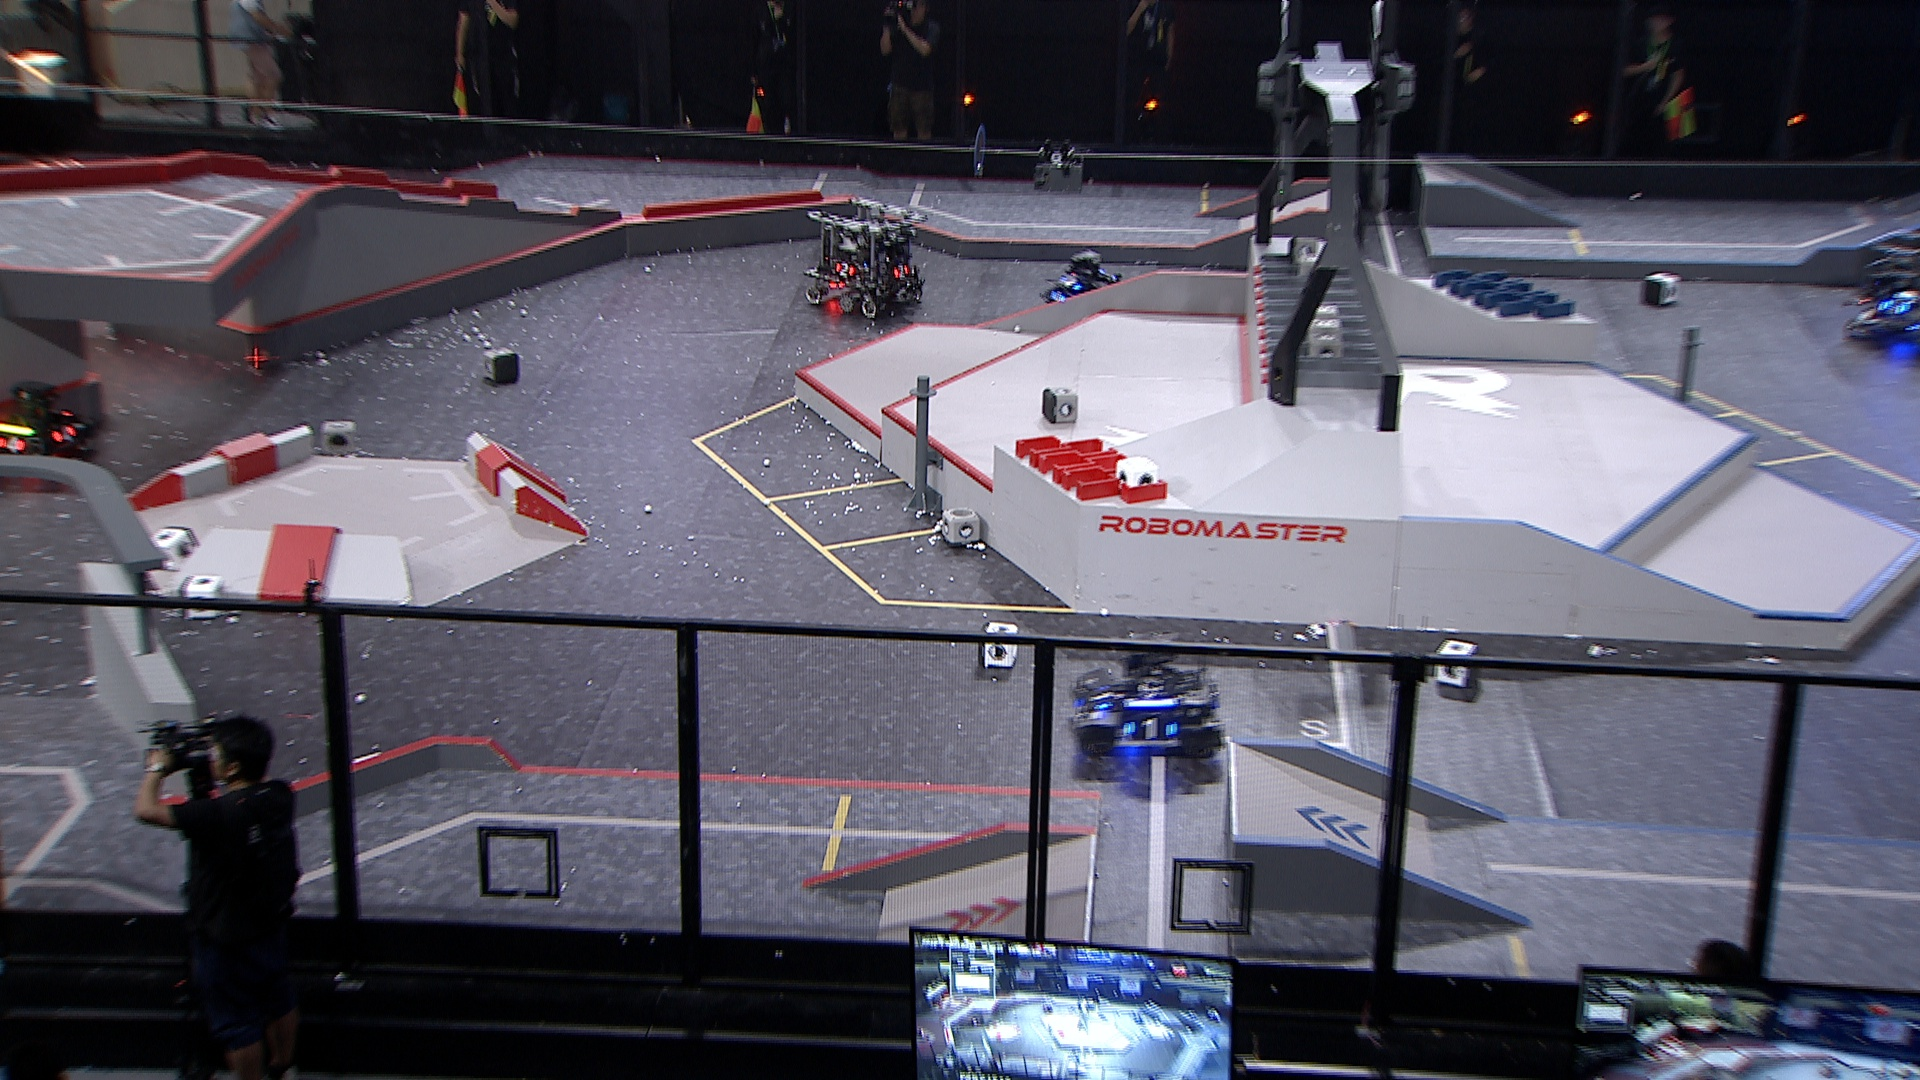armor: (1125, 713, 1179, 742), (1876, 295, 1913, 316), (1087, 684, 1112, 712), (50, 422, 78, 443), (832, 261, 856, 280), (891, 261, 911, 280), (1058, 276, 1083, 290), (1048, 287, 1065, 305)
car: (1069, 626, 1225, 765), (806, 194, 928, 319), (1845, 225, 1920, 348), (1040, 248, 1129, 316)
